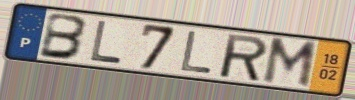7: (138, 22, 177, 72)
B: (37, 11, 91, 62)
L: (178, 29, 215, 76), (89, 19, 124, 66)
M: (260, 36, 320, 91)
R: (219, 32, 270, 84)
